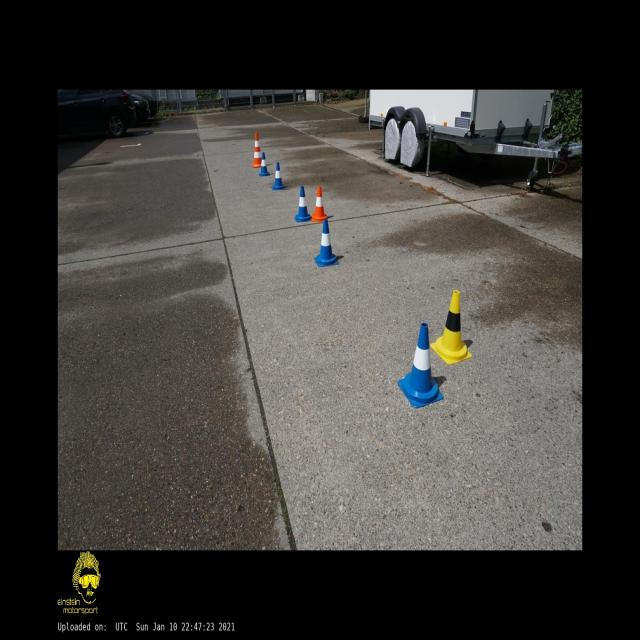blue_cone: (398, 322, 443, 408), (314, 219, 339, 267), (294, 186, 311, 222), (272, 163, 285, 190), (259, 152, 270, 177)
large_orange_cone: (252, 132, 262, 168)
orange_cone: (312, 186, 328, 222)
yellow_cone: (430, 290, 472, 365)
